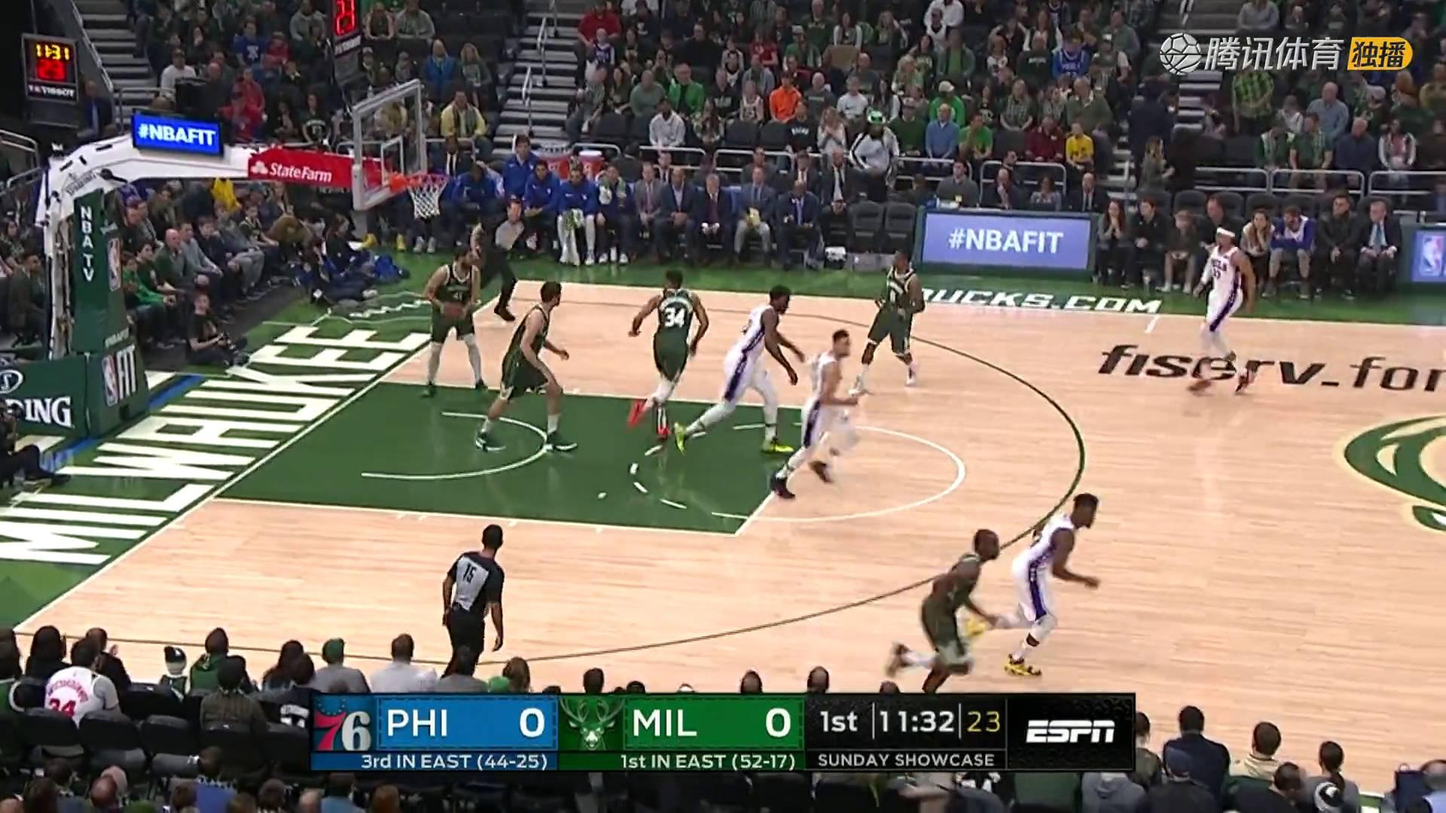basketball: (441, 300, 465, 325)
